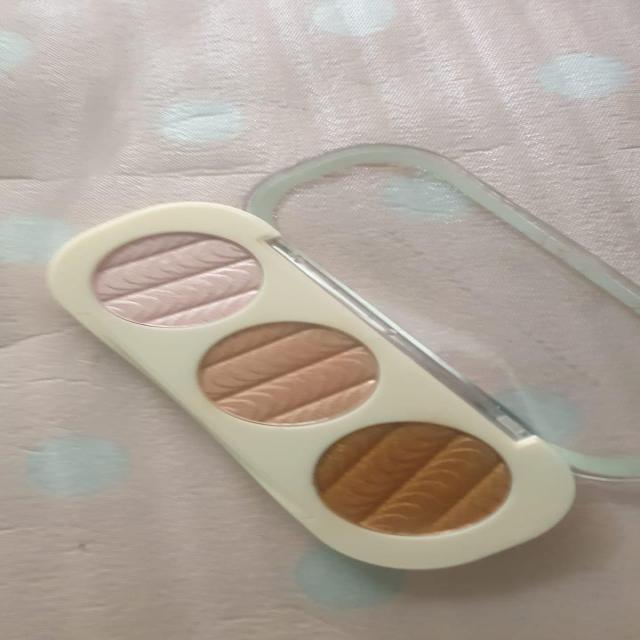highlighter: (284, 399, 558, 546), (46, 210, 289, 337), (192, 313, 372, 436)
